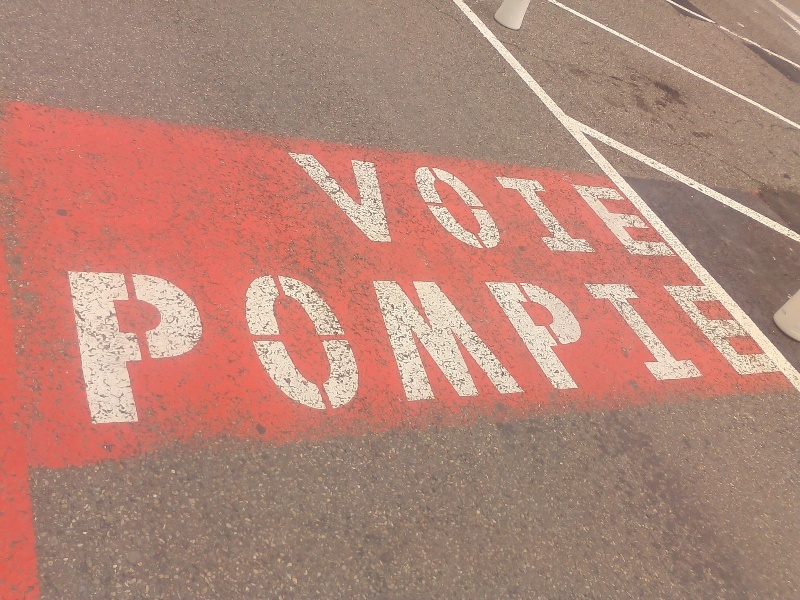text: (769, 272, 785, 427), (81, 272, 96, 427), (97, 272, 112, 427), (113, 272, 128, 427), (129, 272, 144, 427), (145, 272, 160, 427), (161, 272, 176, 427), (177, 272, 192, 427), (193, 272, 208, 427), (209, 272, 224, 427), (225, 272, 240, 427), (241, 272, 256, 427), (257, 272, 272, 427), (273, 272, 288, 427), (289, 272, 304, 427), (305, 272, 320, 427), (321, 272, 336, 427), (337, 272, 352, 427), (353, 272, 368, 427), (369, 272, 384, 427), (385, 272, 400, 427), (401, 272, 416, 427), (417, 272, 432, 427), (433, 272, 448, 427), (449, 272, 464, 427), (465, 272, 480, 427), (481, 272, 496, 427), (497, 272, 512, 427), (513, 272, 528, 427), (529, 272, 544, 427), (545, 272, 560, 427), (561, 272, 576, 427), (577, 272, 592, 427), (593, 272, 608, 427), (609, 272, 624, 427), (625, 272, 640, 427), (641, 272, 656, 427), (657, 272, 672, 427), (673, 272, 688, 427), (689, 272, 704, 427), (705, 272, 720, 427), (721, 272, 736, 427), (737, 272, 752, 427), (753, 272, 768, 427), (67, 272, 80, 427), (289, 151, 304, 257), (305, 151, 320, 257), (321, 151, 336, 257), (337, 151, 352, 257), (353, 151, 368, 257), (369, 151, 384, 257), (385, 151, 400, 257), (401, 151, 416, 257), (417, 151, 432, 257), (433, 151, 448, 257), (449, 151, 464, 257), (465, 151, 480, 257), (481, 151, 496, 257), (497, 151, 512, 257), (513, 151, 528, 257), (529, 151, 544, 257), (545, 151, 560, 257), (561, 151, 576, 257), (577, 151, 592, 257), (593, 151, 608, 257), (609, 151, 624, 257), (625, 151, 640, 257), (641, 151, 656, 257), (657, 151, 672, 257), (673, 151, 680, 257), (284, 151, 288, 257)
